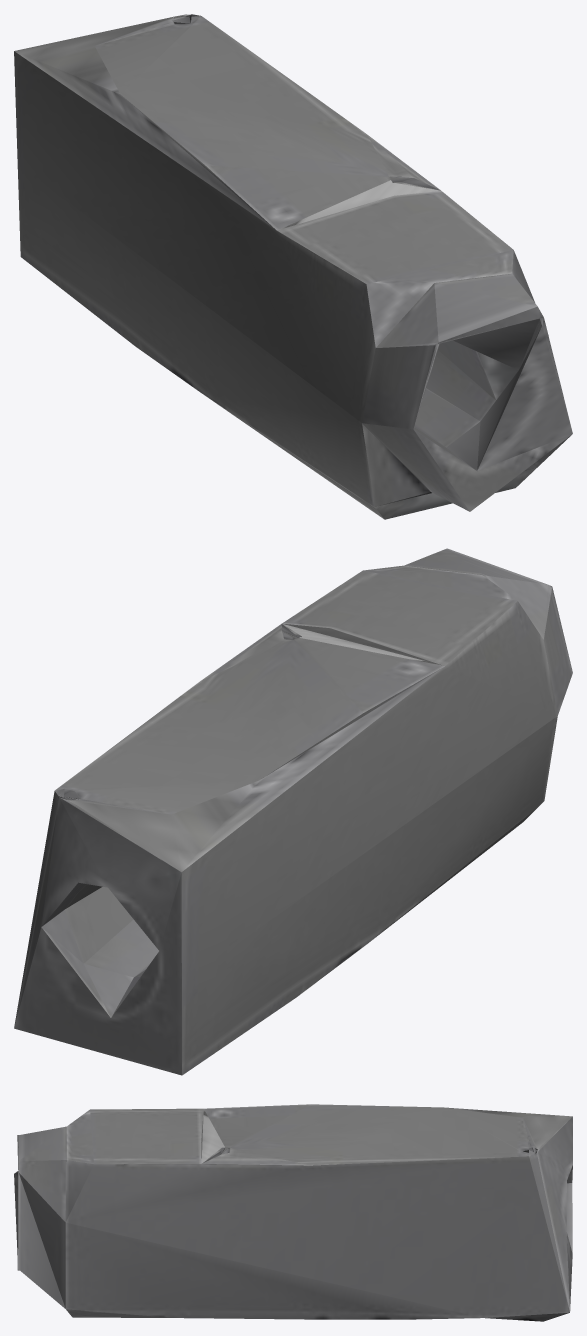
Rendered from shared_flak_tower_compact_option__elevation_cradle_lod2.glb.
The picture shows the model from 3 angles, top to bottom: view 1: azimuth 30°, elevation 25°; view 2: azimuth 150°, elevation 25°; view 3: azimuth 270°, elevation 25°; orthographic projection. The views are drawn at different scales.
Visible parts, largest first — view 1: mesh_node; view 2: mesh_node; view 3: mesh_node.
Part boxes in pixels (left/top/right/bottom): mesh_node: left=14, top=14, right=572, bottom=519; mesh_node: left=14, top=548, right=572, bottom=1075; mesh_node: left=14, top=1104, right=572, bottom=1321.
Bounding box in the file's own units: 0.6276 × 0.7611 × 2.3.
1 material, 1 textured.
